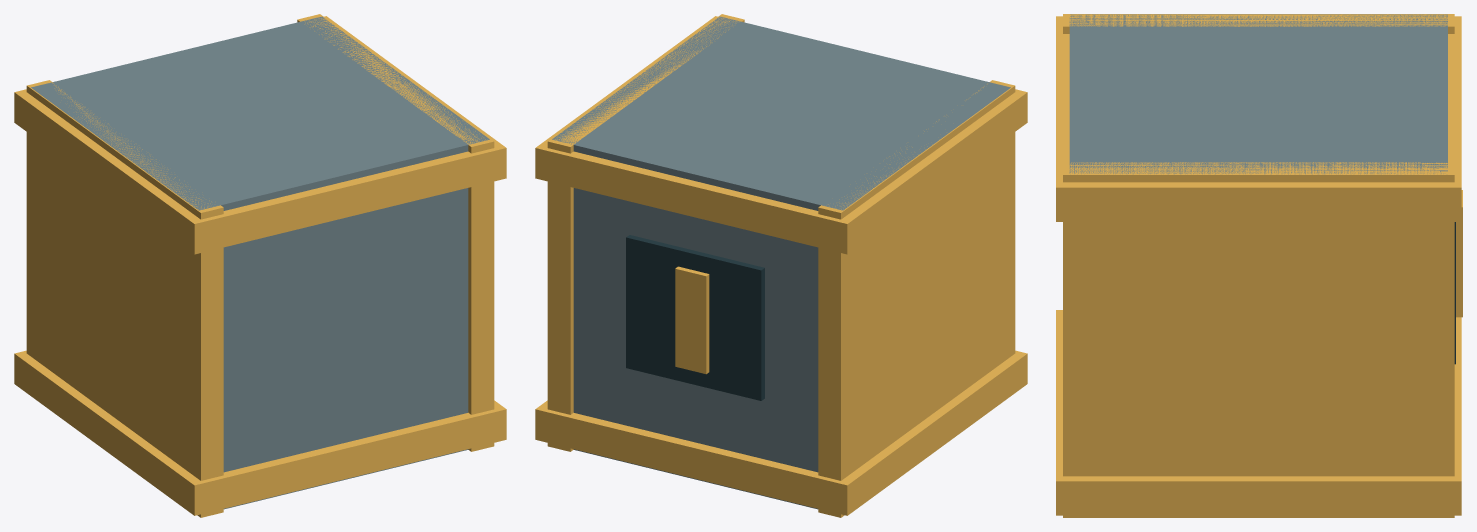
File: mega.glb
3 views of the same model, side by side, from view 1: azimuth 30°, elevation 25°; view 2: azimuth 150°, elevation 25°; view 3: azimuth 270°, elevation 25° (orthographic). The views are drawn at different scales.
Visible parts, largest first — view 1: mega; view 2: mega; view 3: mega.
Part boxes in pixels (x1=…): mega: x1=14, y1=14, x2=506, y2=517; mega: x1=535, y1=14, x2=1027, y2=517; mega: x1=1056, y1=14, x2=1462, y2=517.
Bounding box in the file's own units: 3 × 2.8 × 3.01.
